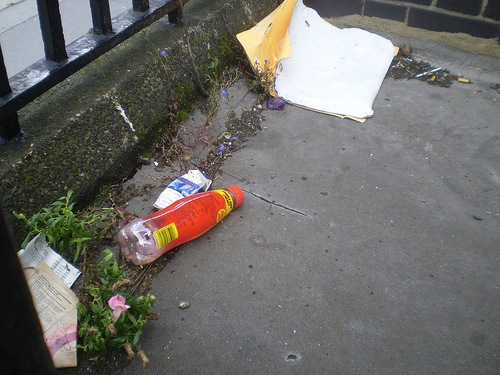litter: (233, 0, 400, 122), (117, 183, 245, 266), (16, 234, 77, 369), (172, 166, 213, 186)
